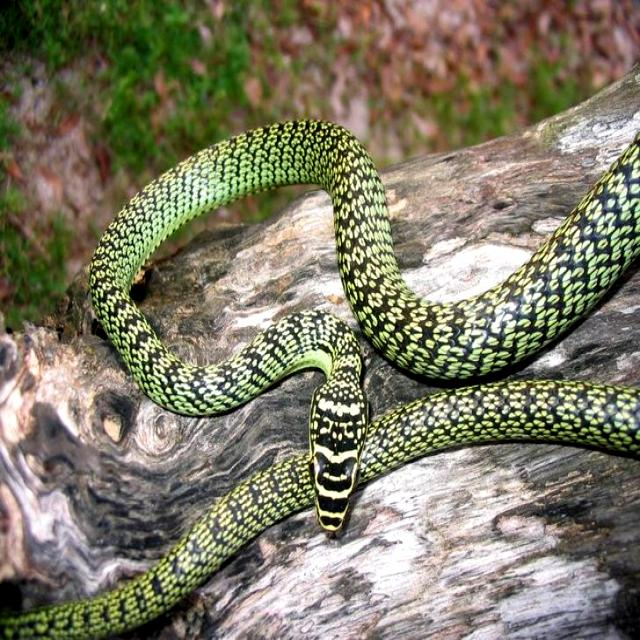Chrysopelea ornata: (0, 121, 639, 636)
snake: (0, 121, 639, 636)
